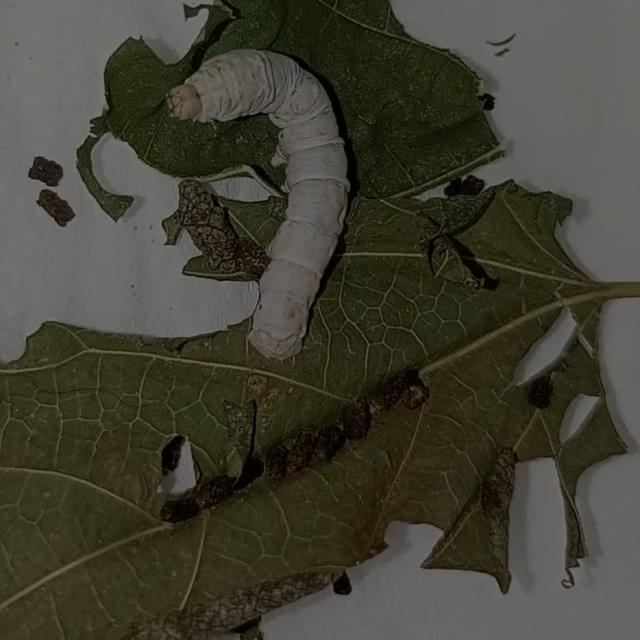Healthy: (162, 41, 356, 363)
